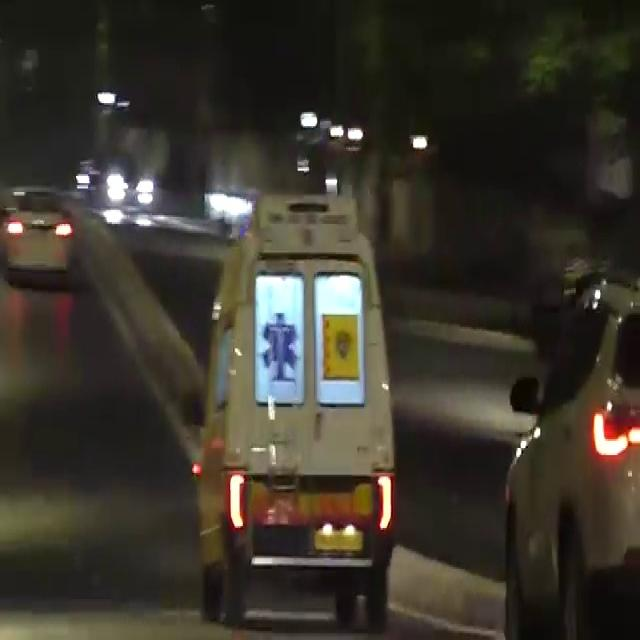ambulance: (178, 186, 403, 632)
